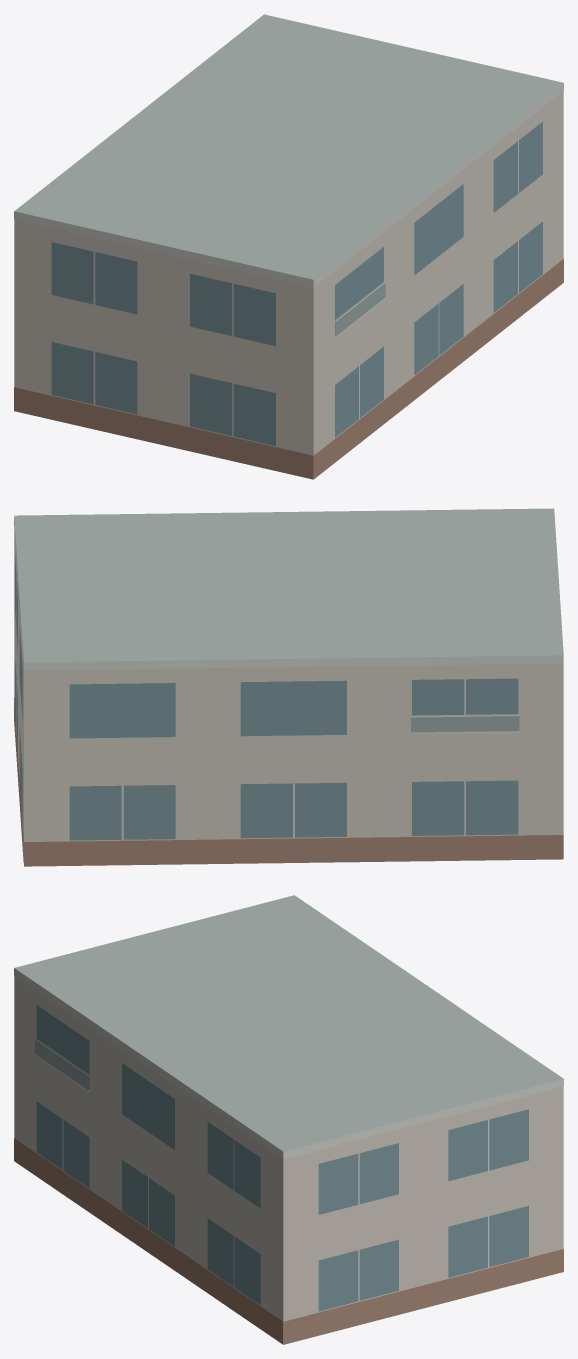
The model's file is survey-upis-32625081.glb.
3 renders of one model, top to bottom at view 1: azimuth 30°, elevation 25°; view 2: azimuth 150°, elevation 25°; view 3: azimuth 270°, elevation 25°, orthographic. The views are drawn at different scales.
Parts seen in each view (by area): view 1: survey-upis-32625081.tmp; view 2: survey-upis-32625081.tmp; view 3: survey-upis-32625081.tmp.
Boxes of the visible parts, <box> form: survey-upis-32625081.tmp: <box>14,14,563,479</box>; survey-upis-32625081.tmp: <box>14,508,563,866</box>; survey-upis-32625081.tmp: <box>14,895,563,1344</box>.
Size of the model in its own units: 17.39 by 6.1 by 15.74.
